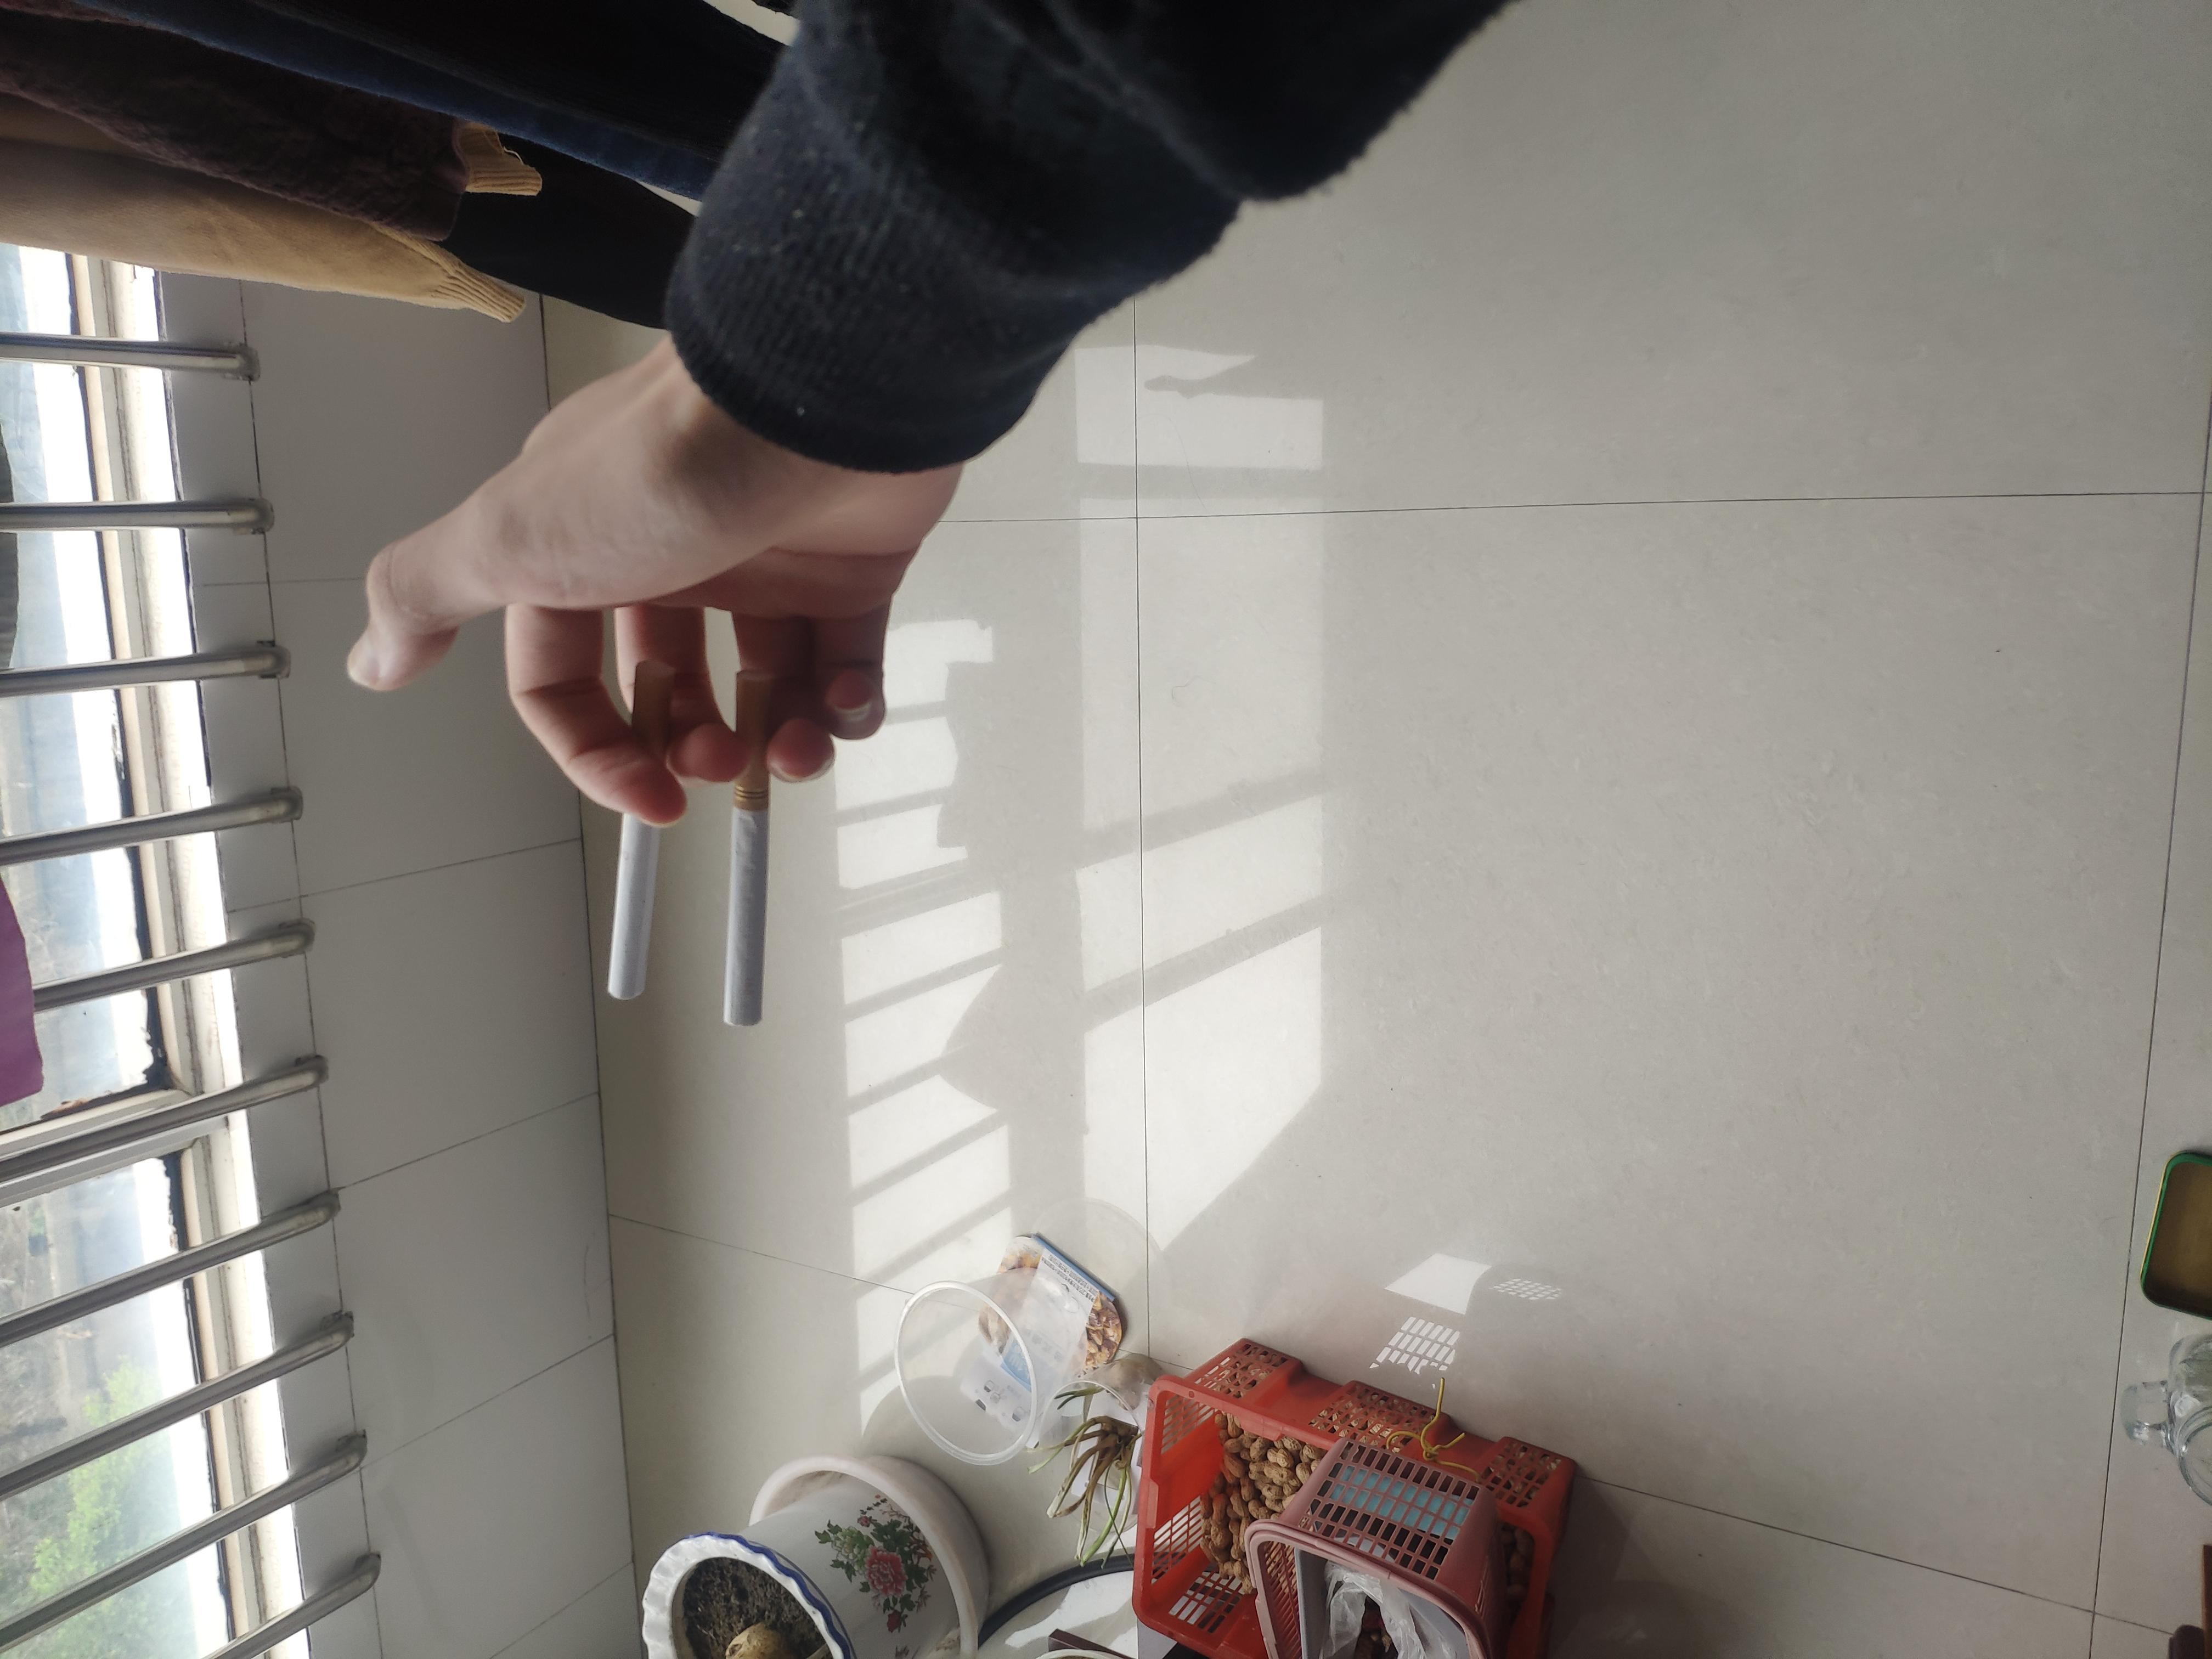smoke: (876, 455, 1339, 505), (843, 540, 1332, 586)
